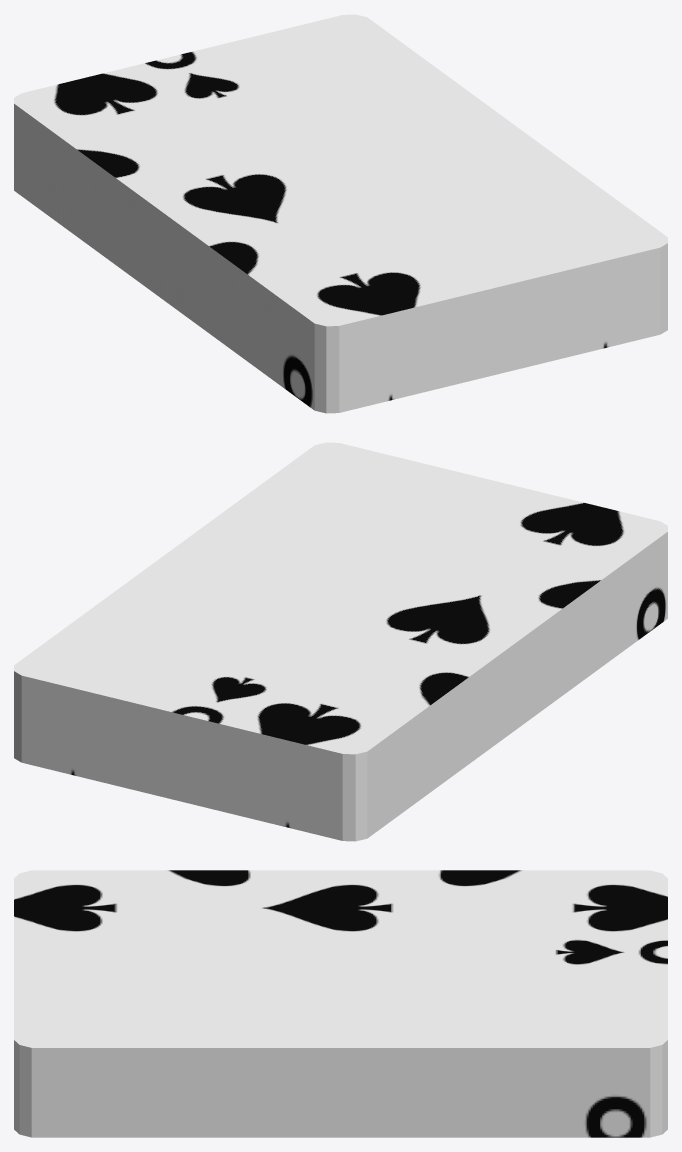
File: ManyDeck_00.fbx
The picture shows the model from 3 angles, top to bottom: view 1: azimuth 30°, elevation 25°; view 2: azimuth 150°, elevation 25°; view 3: azimuth 270°, elevation 25°; orthographic projection. The views are drawn at different scales.
Visible parts, largest first — view 1: b01_deck; view 2: b01_deck; view 3: b01_deck.
Boxes of the visible parts, <box> form: b01_deck: <box>14,14,667,413</box>; b01_deck: <box>14,442,667,841</box>; b01_deck: <box>14,870,667,1137</box>.
Size of the model in its own units: 0.057 by 0.0134 by 0.0887.
1 material, 1 textured.
